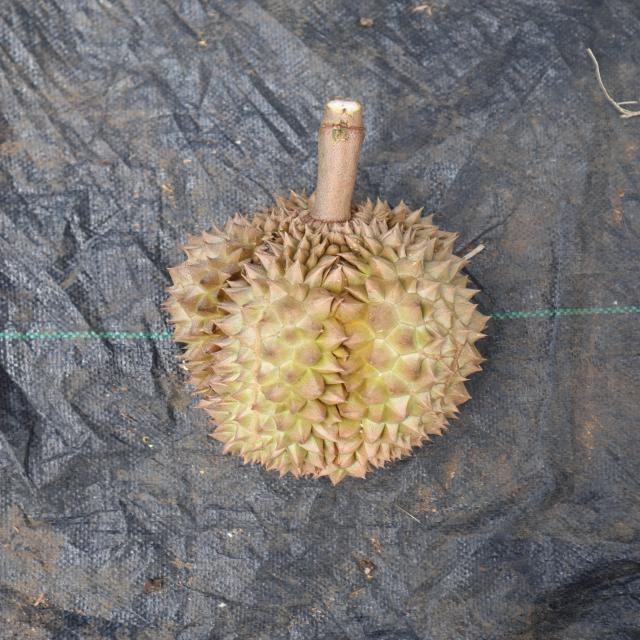mature: (163, 189, 497, 485)
